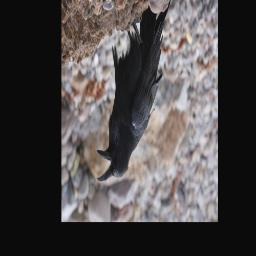Crow: (97, 0, 173, 181)
